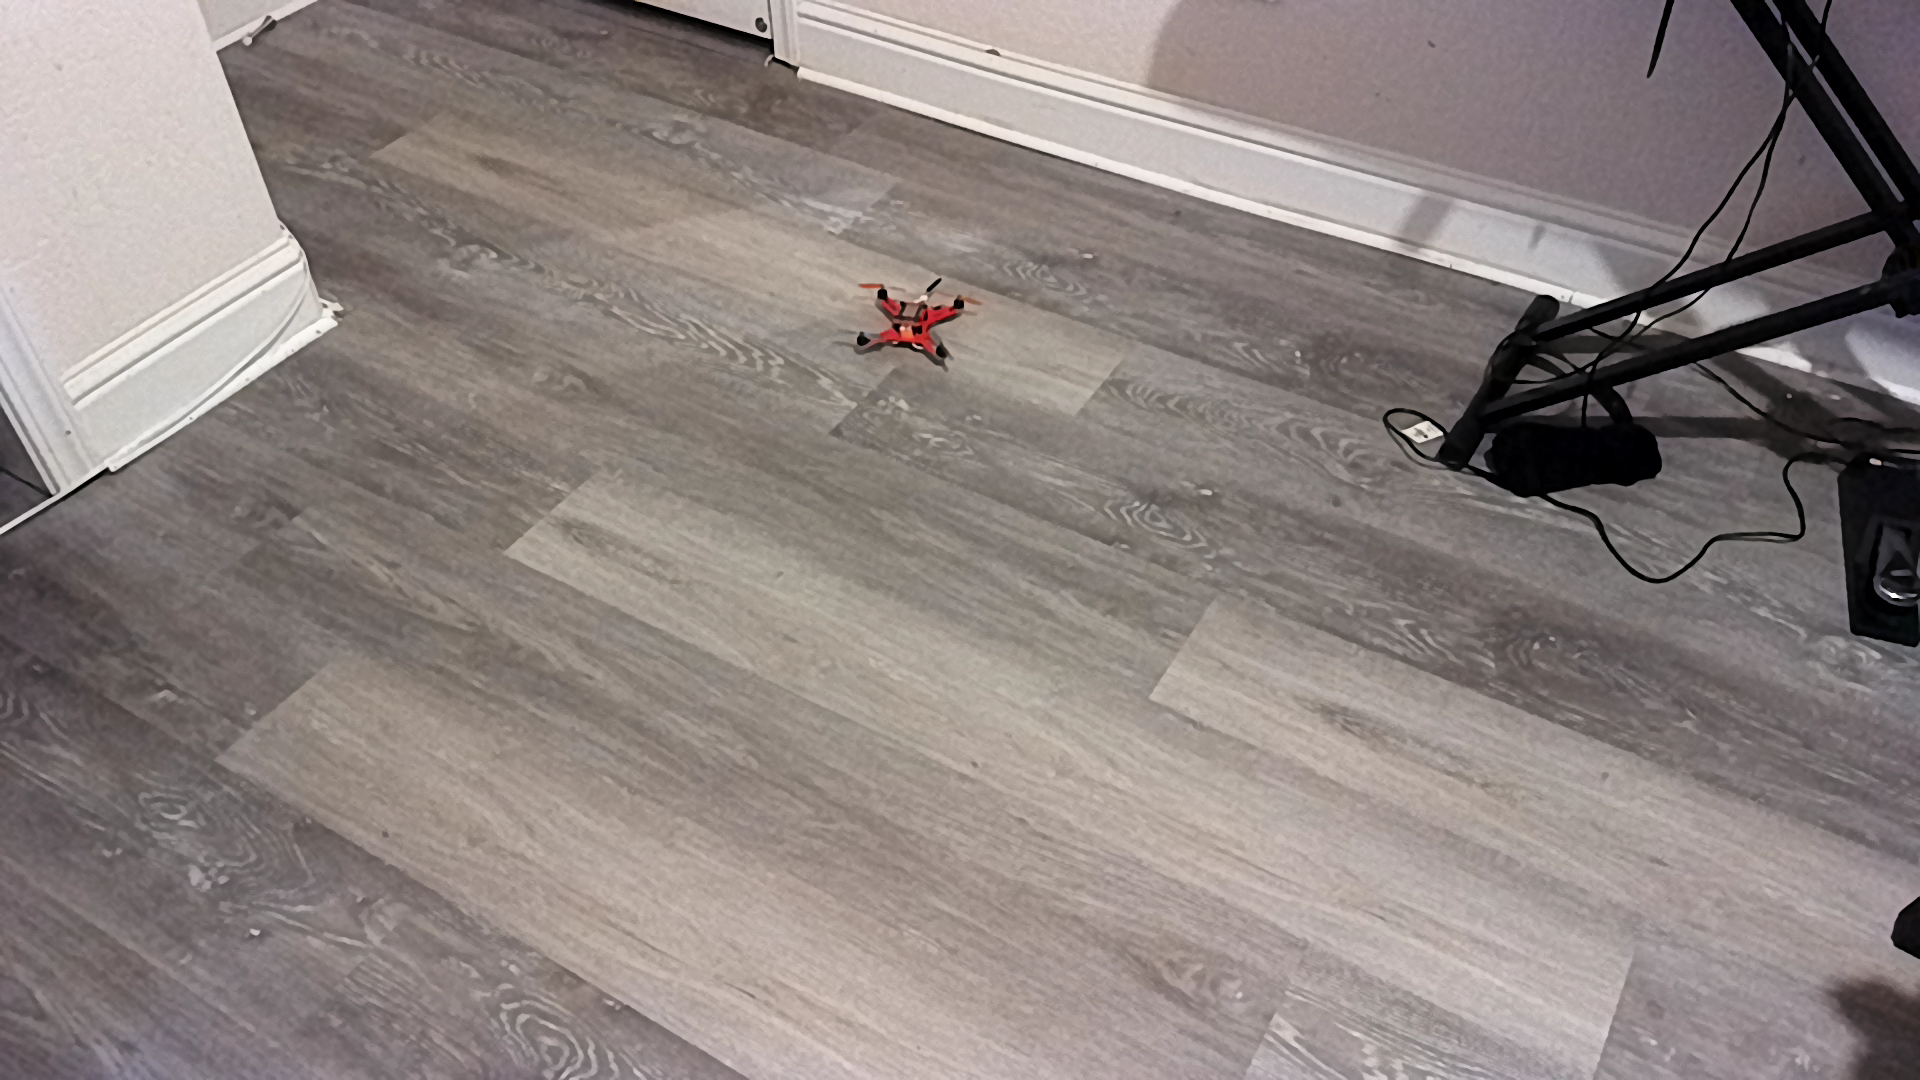drone: (837, 276, 1007, 381)
